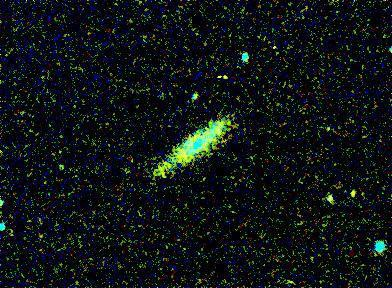star: (198, 61, 228, 91)
